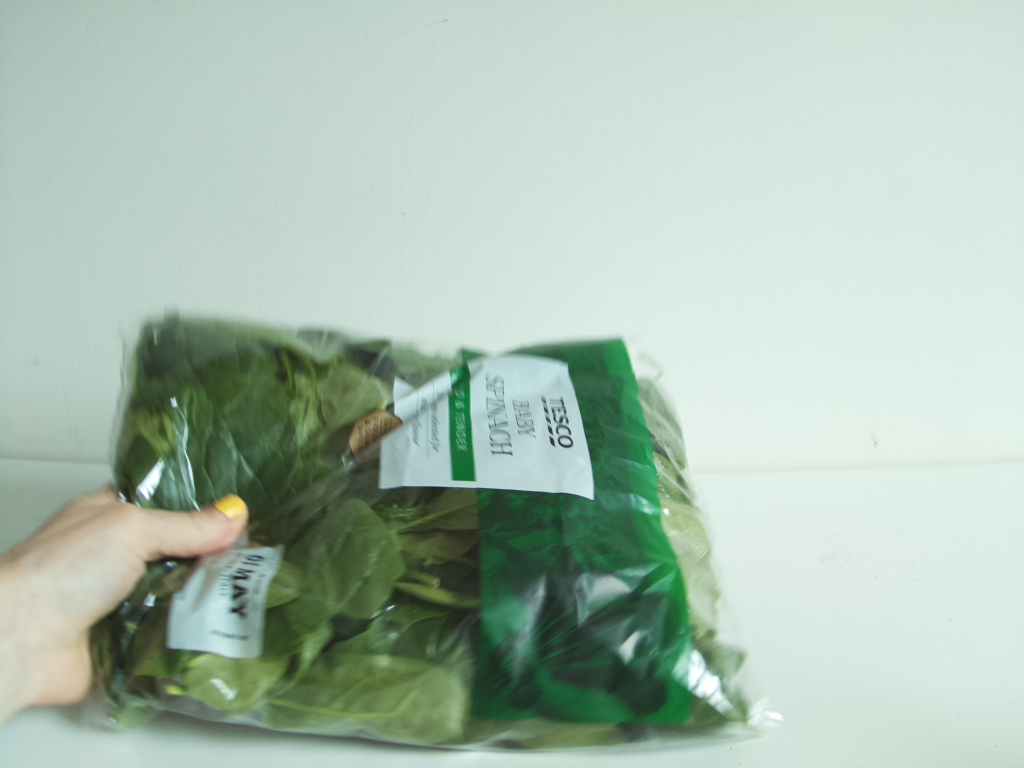salad: (96, 308, 773, 756)
